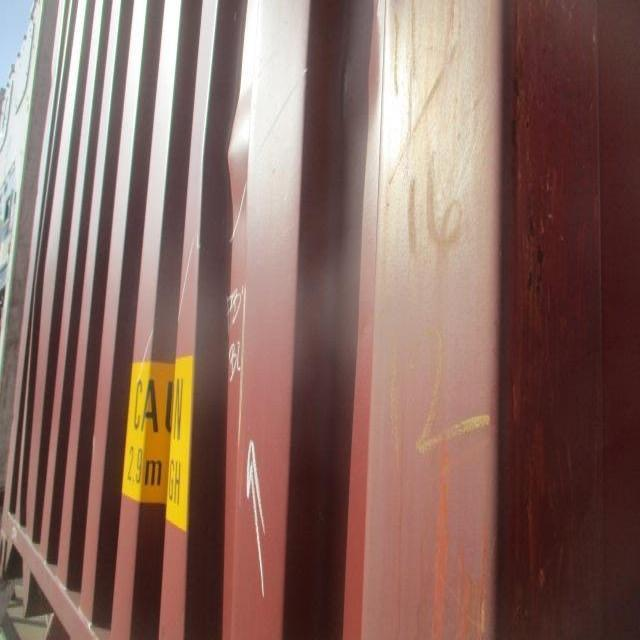Minor-Dent: (199, 63, 259, 249)
